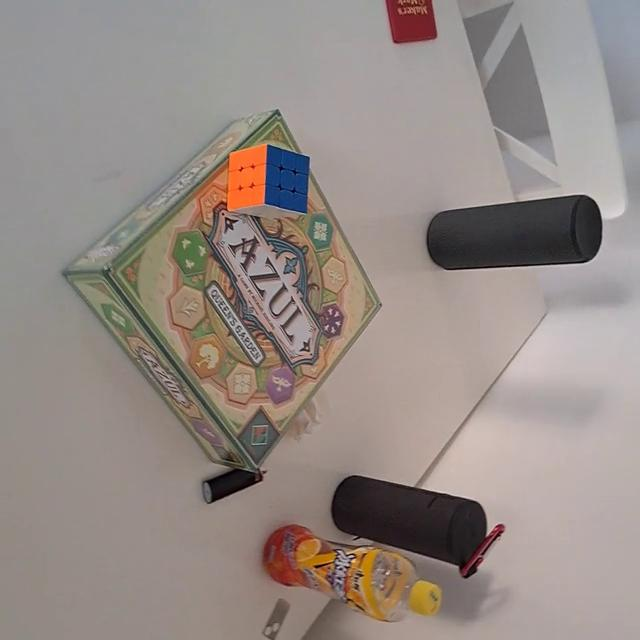rubix_cube: (225, 142, 312, 222)
